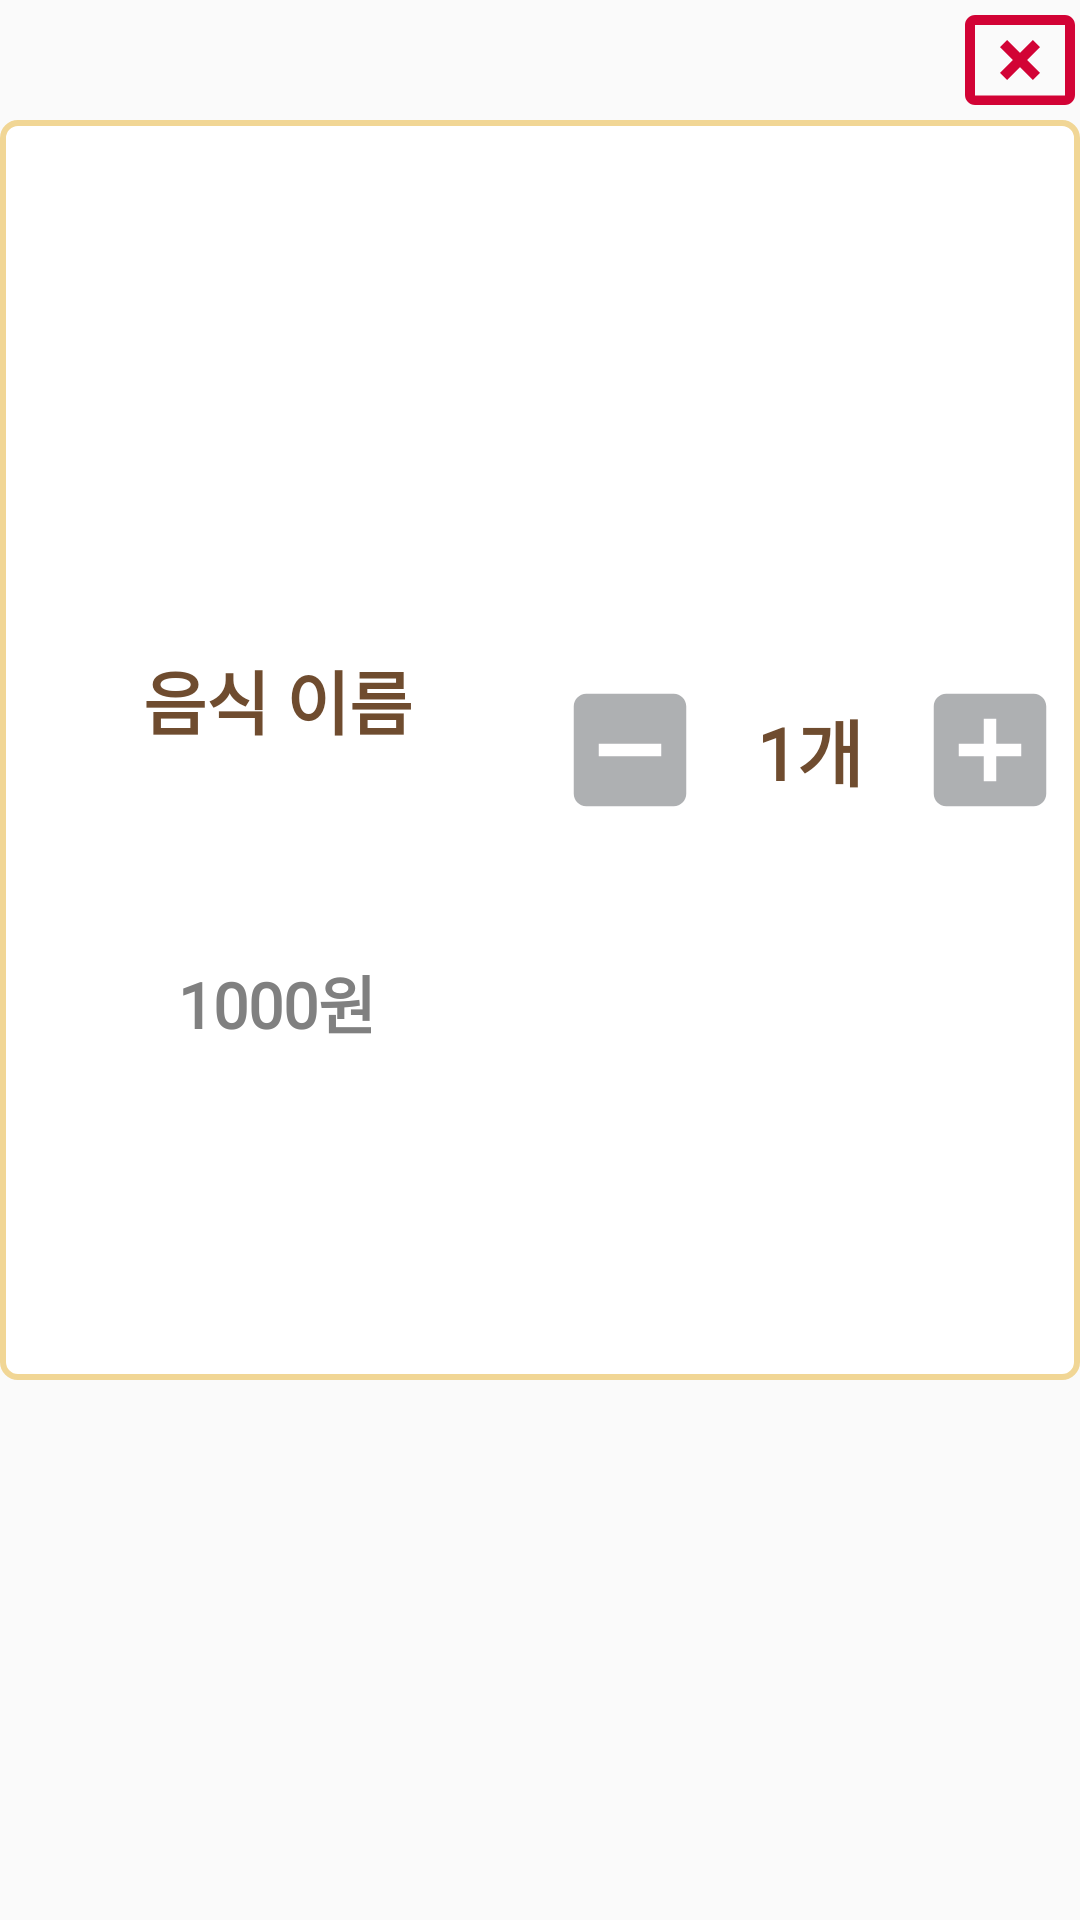

Screen size 1080x1920. Icon name, then its center in pixels as [x,y]:
add box: [990,750]
cancel presentation: [1020,60]
indeterminate check box: [630,750]
